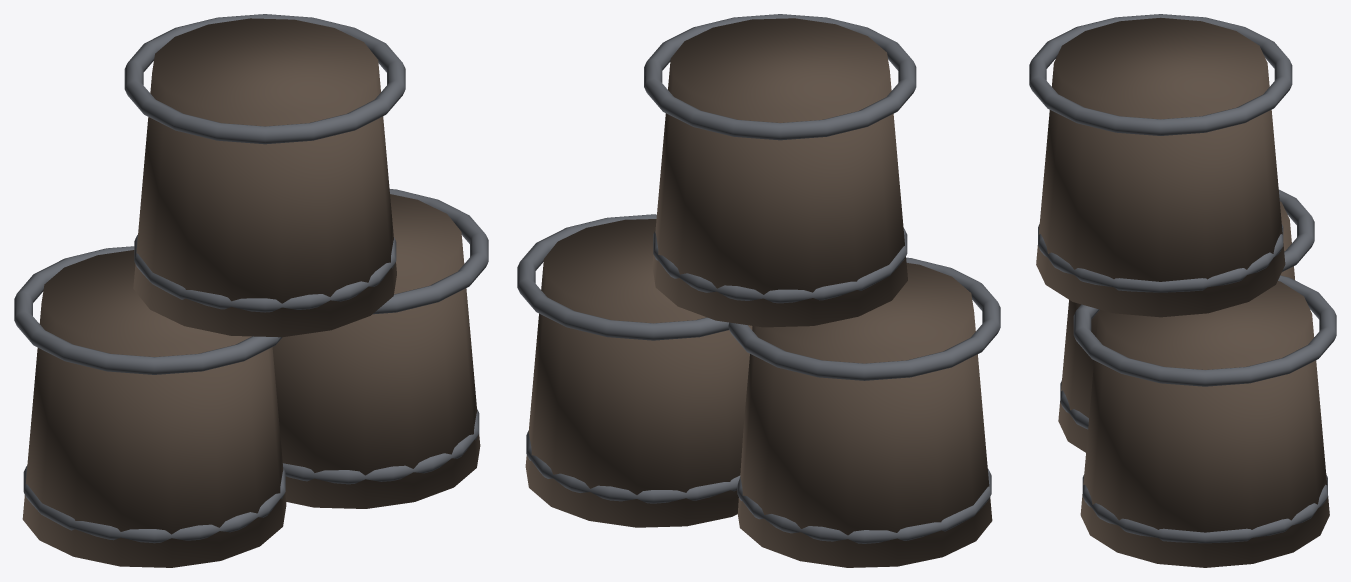
Rendered from prop_oke_stack.glb.
3 renders of one model, left to right at view 1: azimuth 30°, elevation 25°; view 2: azimuth 150°, elevation 25°; view 3: azimuth 270°, elevation 25°, orthographic. The views are drawn at different scales.
Visible parts, largest first — view 1: oke_stack; view 2: oke_stack; view 3: oke_stack.
Boxes of the visible parts, x1,y1,x2,y2 form: oke_stack: (14,14,488,567); oke_stack: (517,14,1000,567); oke_stack: (1029,14,1336,567).
Size of the model in its own units: 1.1 by 1 by 0.6909.
